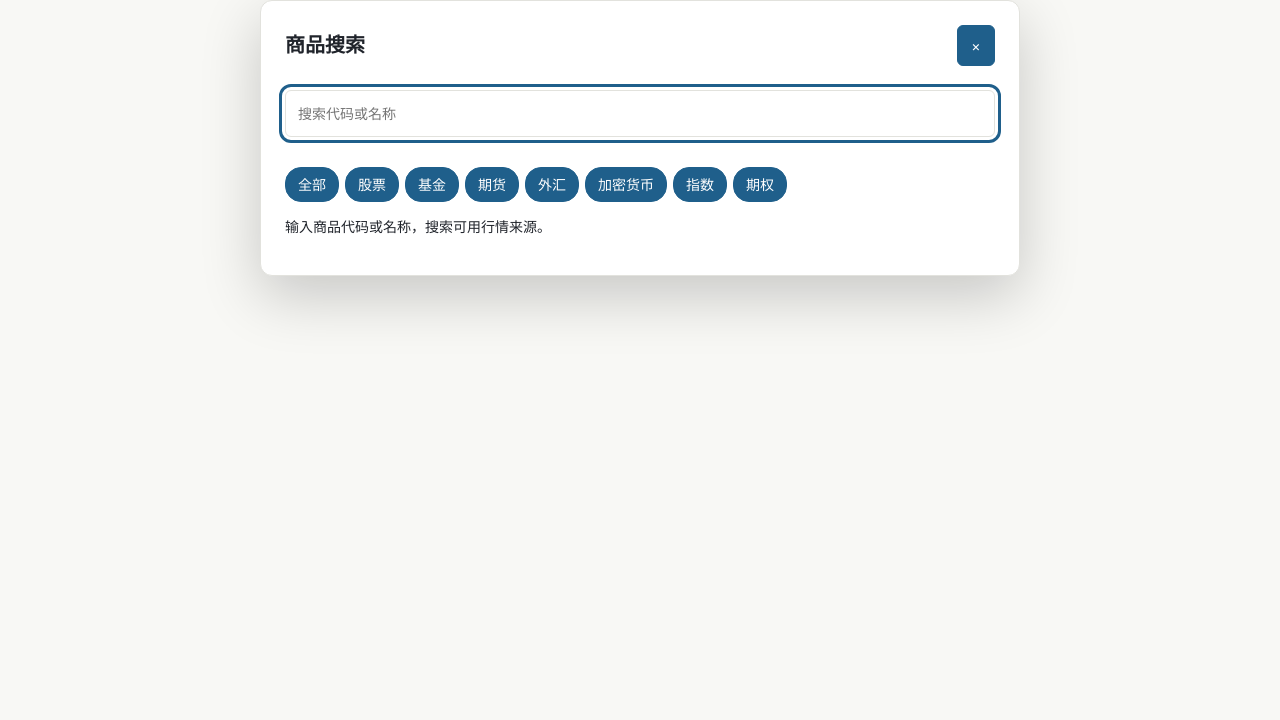
Scenario: distinguishes total source failure from an empty successful search (UNSUPPORTED)
Type "BTC" into the search field at (640, 113), box [285,90,995,137]
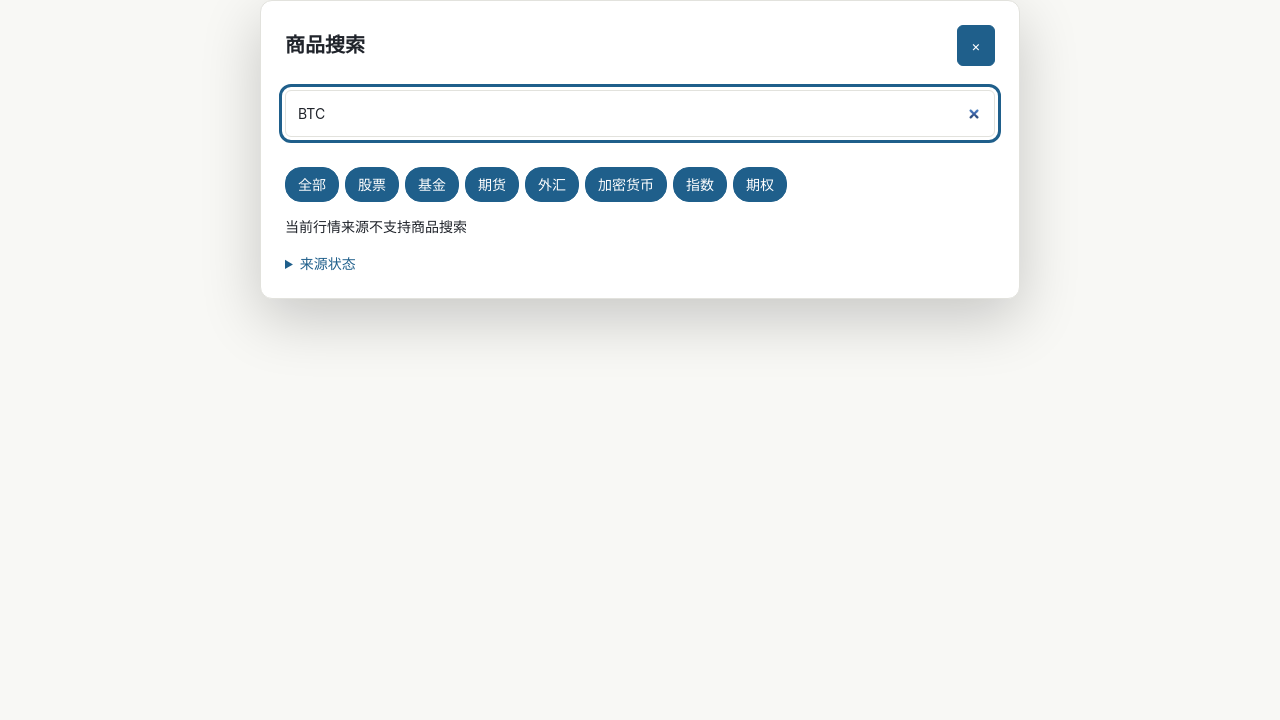
Expected: the message reads "当前行情来源不支持商品搜索", [285,218,467,235]
